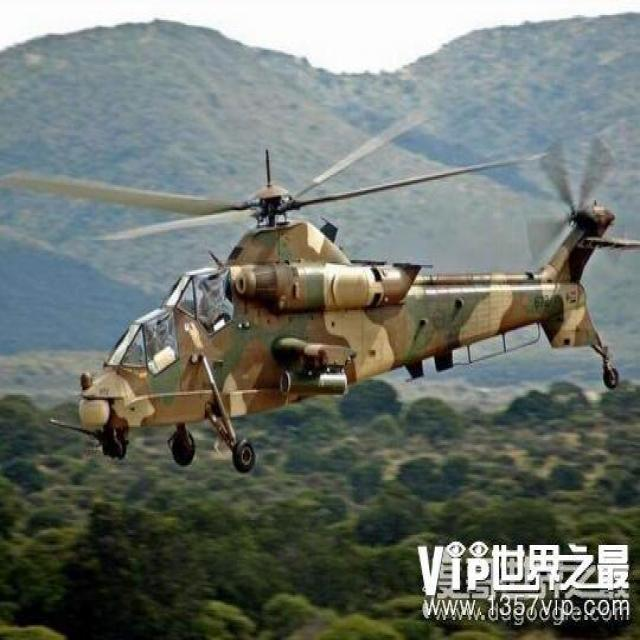MIL_HELO: (0, 115, 640, 482)
